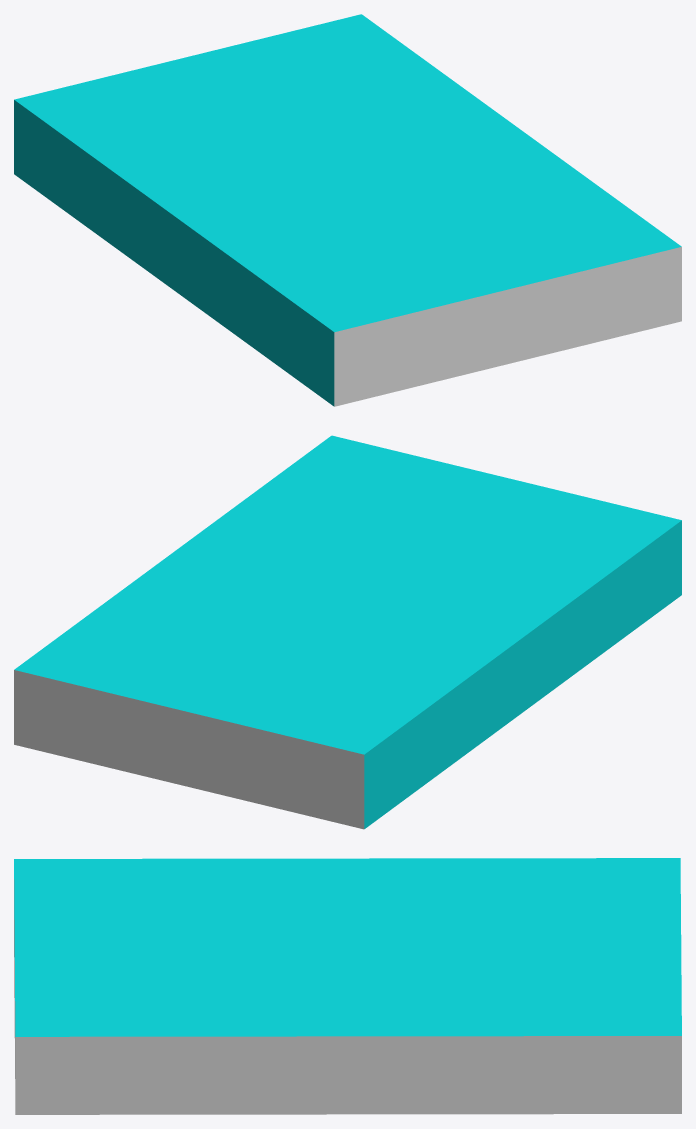
Rendered from Books 3.fbx.
3 renders of one model, top to bottom at view 1: azimuth 30°, elevation 25°; view 2: azimuth 150°, elevation 25°; view 3: azimuth 270°, elevation 25°, orthographic. The views are drawn at different scales.
Visible parts, largest first — view 1: Books 3; view 2: Books 3; view 3: Books 3.
Boxes of the visible parts, x1,y1,x2,y2 form: Books 3: [14, 14, 681, 406]; Books 3: [14, 435, 681, 829]; Books 3: [14, 858, 681, 1114].
Size of the model in its own units: 48.92 by 9.95 by 77.2.
